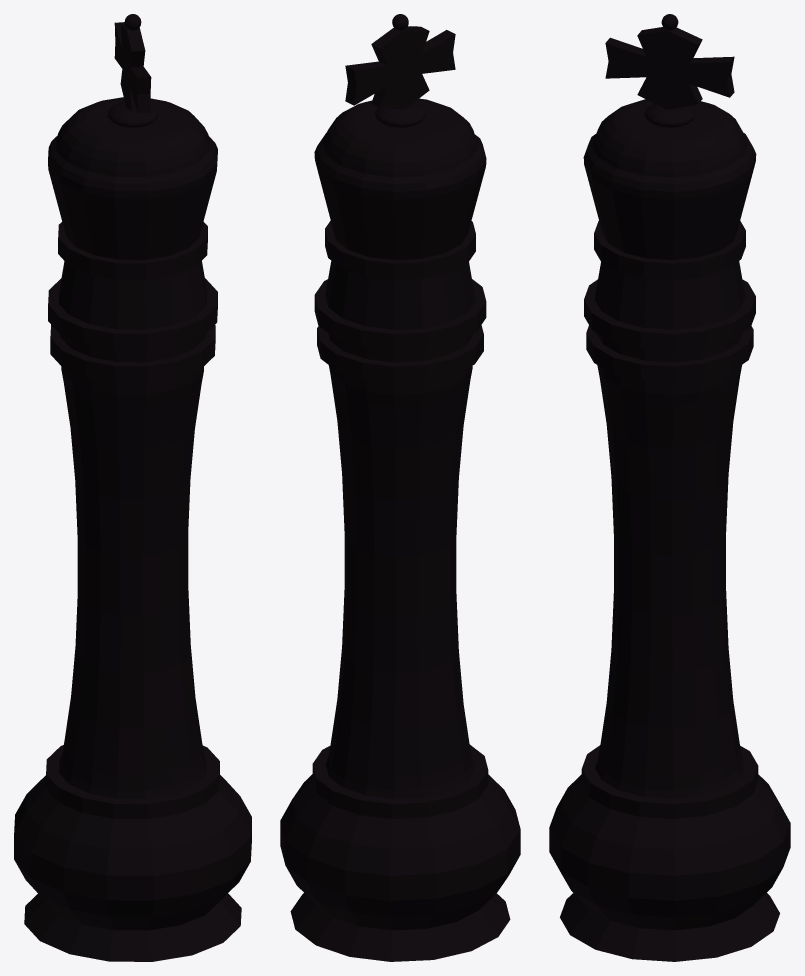
File: rege.obj
3 views of the same model, side by side, from view 1: azimuth 30°, elevation 25°; view 2: azimuth 150°, elevation 25°; view 3: azimuth 270°, elevation 25° (orthographic).
Visible parts, largest first — view 1: king.000; view 2: king.000; view 3: king.000.
Part boxes in pixels (x1,y1,x2,y2): king.000: (14, 14, 251, 961); king.000: (280, 14, 520, 961); king.000: (549, 14, 790, 961).
Bounding box in the file's own units: 0.4326 × 1.78 × 0.4326.
Materials: 1 (1 with a texture image).
